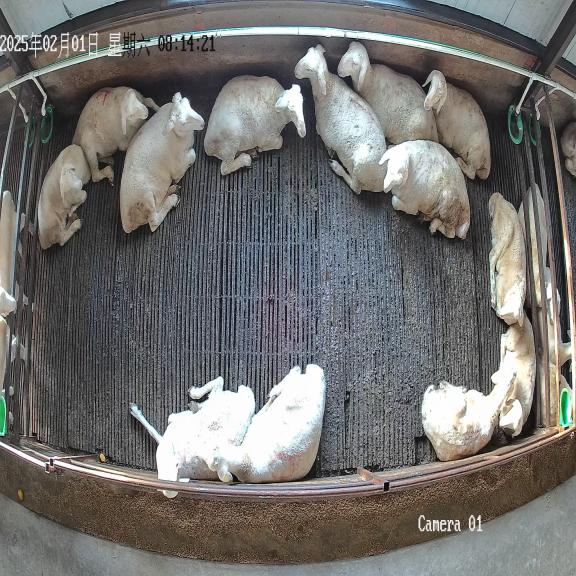lying: (130, 376, 255, 498), (205, 364, 325, 483), (295, 44, 387, 194), (120, 92, 204, 233), (338, 41, 439, 144), (204, 75, 306, 175), (421, 360, 516, 461), (379, 140, 470, 239), (72, 86, 159, 182), (424, 70, 490, 179), (37, 144, 91, 248), (488, 193, 526, 324), (499, 310, 536, 436)
